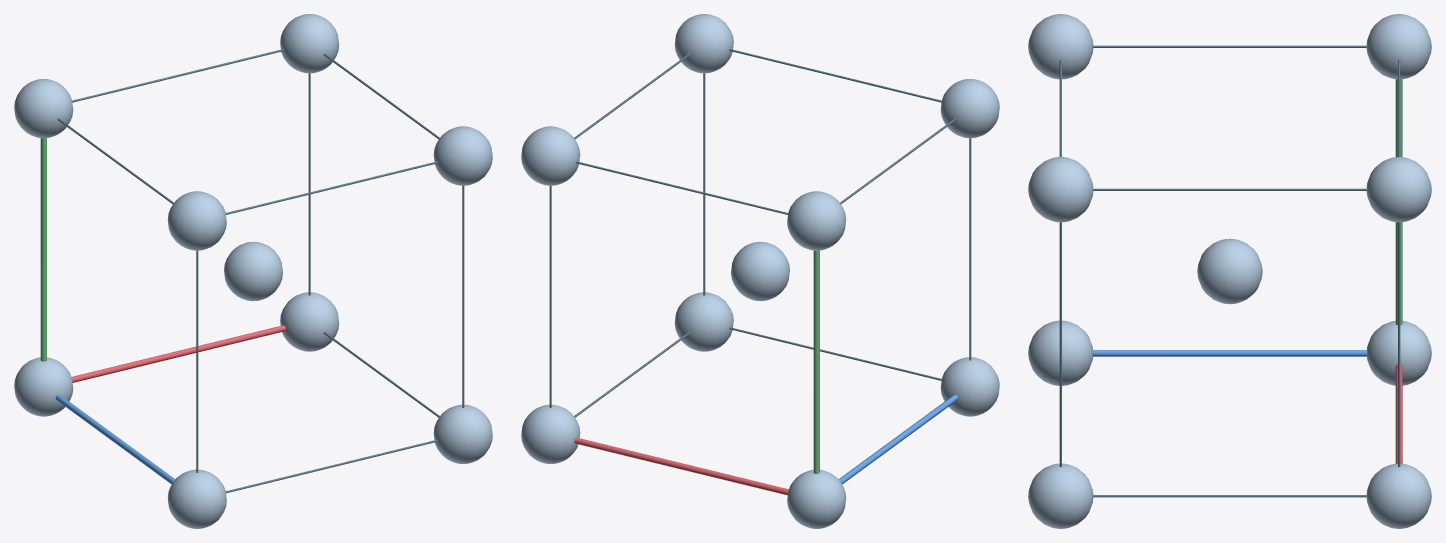
The model's file is nguyen-to-ta.glb.
3 views of the same model, side by side, from view 1: azimuth 30°, elevation 25°; view 2: azimuth 150°, elevation 25°; view 3: azimuth 270°, elevation 25° (orthographic). The views are drawn at different scales.
Parts seen in each view (by area): view 1: Ta · Ta · 1 (×9), Ô mạng và các trục a, b, c; view 2: Ta · Ta · 1 (×9), Ô mạng và các trục a, b, c; view 3: Ta · Ta · 1 (×9), Ô mạng và các trục a, b, c.
Part boxes in pixels (x1,y1,x2,y2): Ta · Ta · 1 (×9): (14, 14, 492, 528); Ô mạng và các trục a, b, c: (40, 49, 464, 493); Ta · Ta · 1 (×9): (521, 14, 999, 528); Ô mạng và các trục a, b, c: (549, 49, 971, 495); Ta · Ta · 1 (×9): (1028, 14, 1431, 528); Ô mạng và các trục a, b, c: (1059, 45, 1402, 497).
Bounding box in the file's own units: 3.95 × 3.95 × 3.95.
